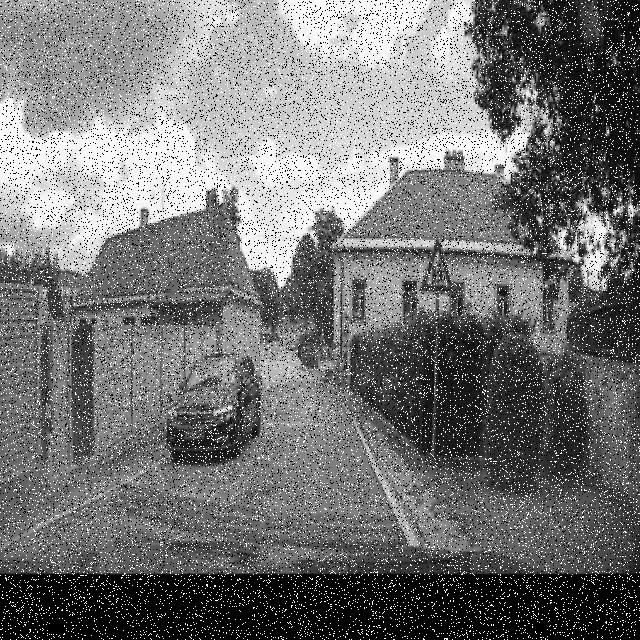clear-road: (152, 375, 374, 507)
